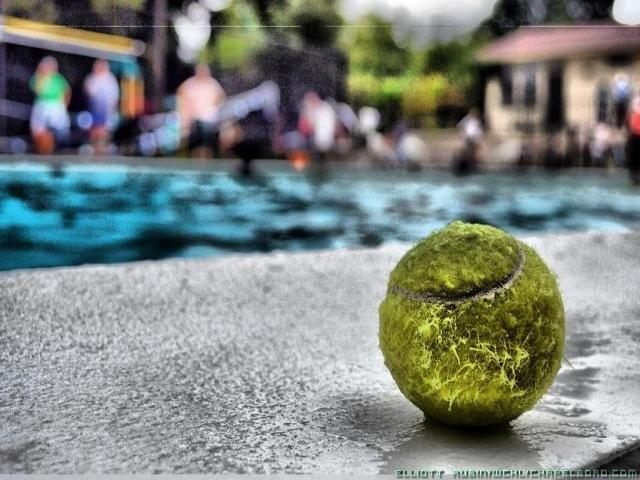tennis-ball: (376, 219, 566, 428)
